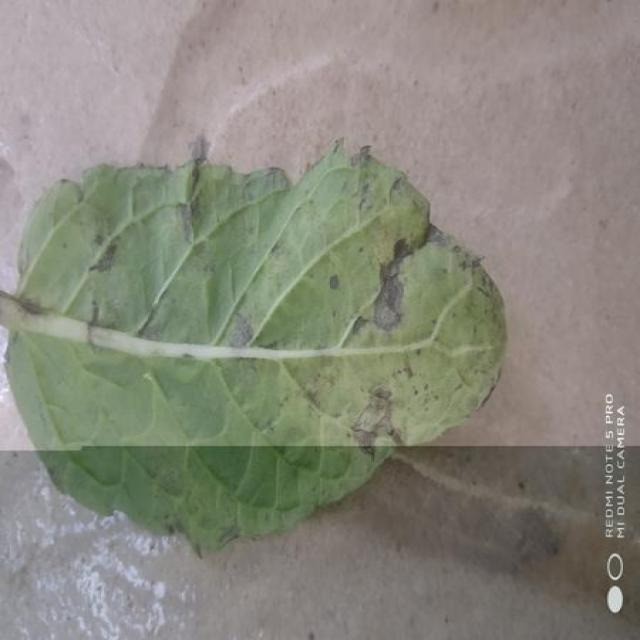mint: (3, 145, 505, 548)
